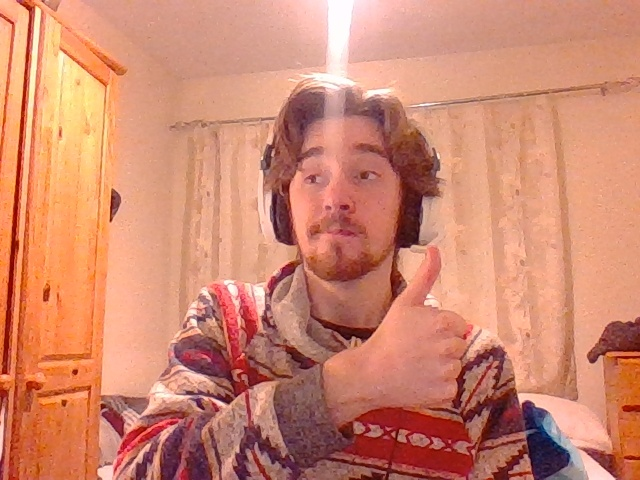good: (363, 246, 466, 412)
